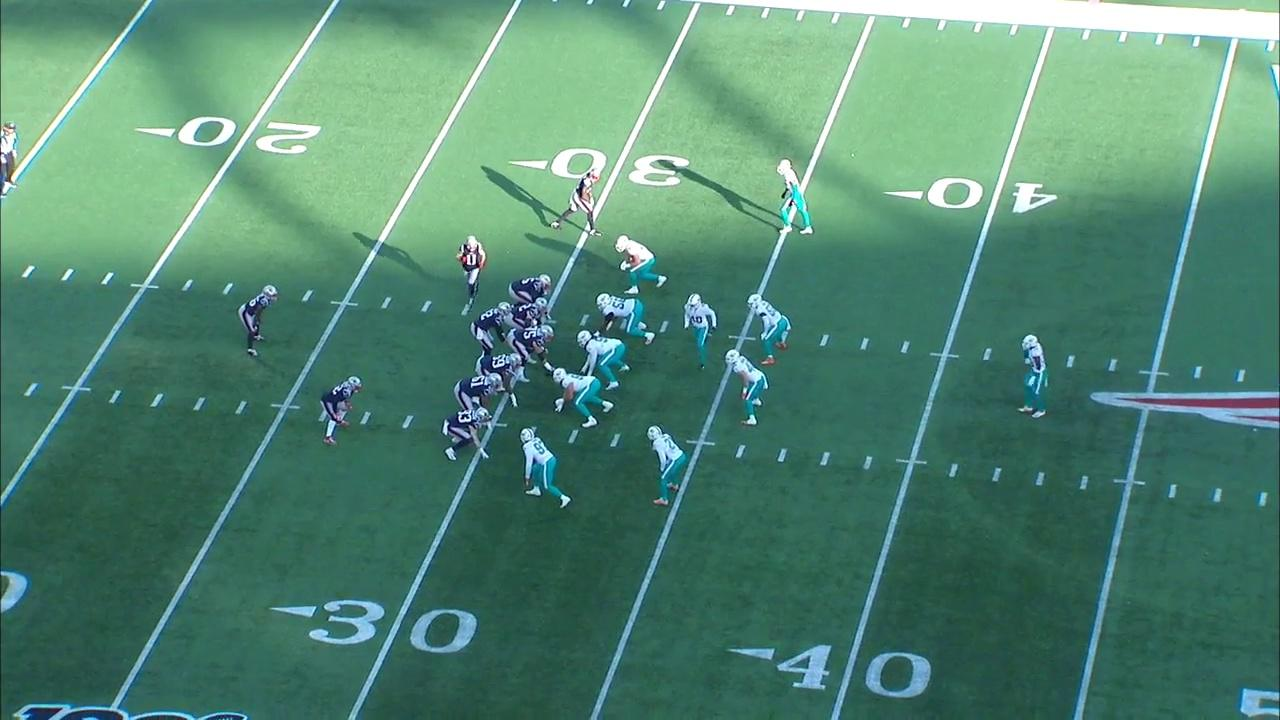player: (519, 427, 573, 512), (550, 366, 616, 432), (549, 167, 606, 241), (569, 326, 630, 389), (314, 376, 366, 447), (593, 288, 655, 347), (646, 424, 687, 513), (724, 346, 768, 428), (613, 233, 668, 298), (746, 292, 792, 369), (773, 156, 815, 240), (235, 279, 279, 359), (502, 324, 556, 385), (470, 300, 514, 368), (442, 407, 494, 463), (473, 351, 523, 409), (1018, 328, 1048, 424), (683, 293, 718, 372), (453, 234, 489, 304), (451, 374, 504, 415), (502, 297, 550, 332), (507, 272, 553, 308)
ref: (0, 118, 21, 197)
